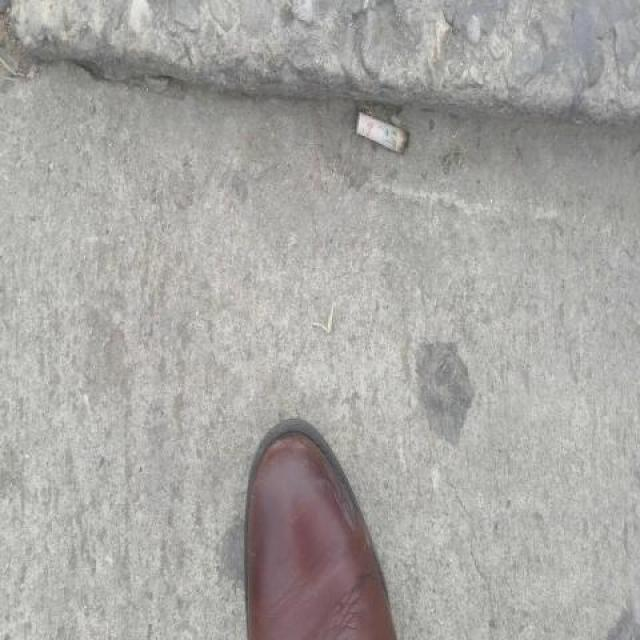non-organic waste: (350, 110, 413, 159)
